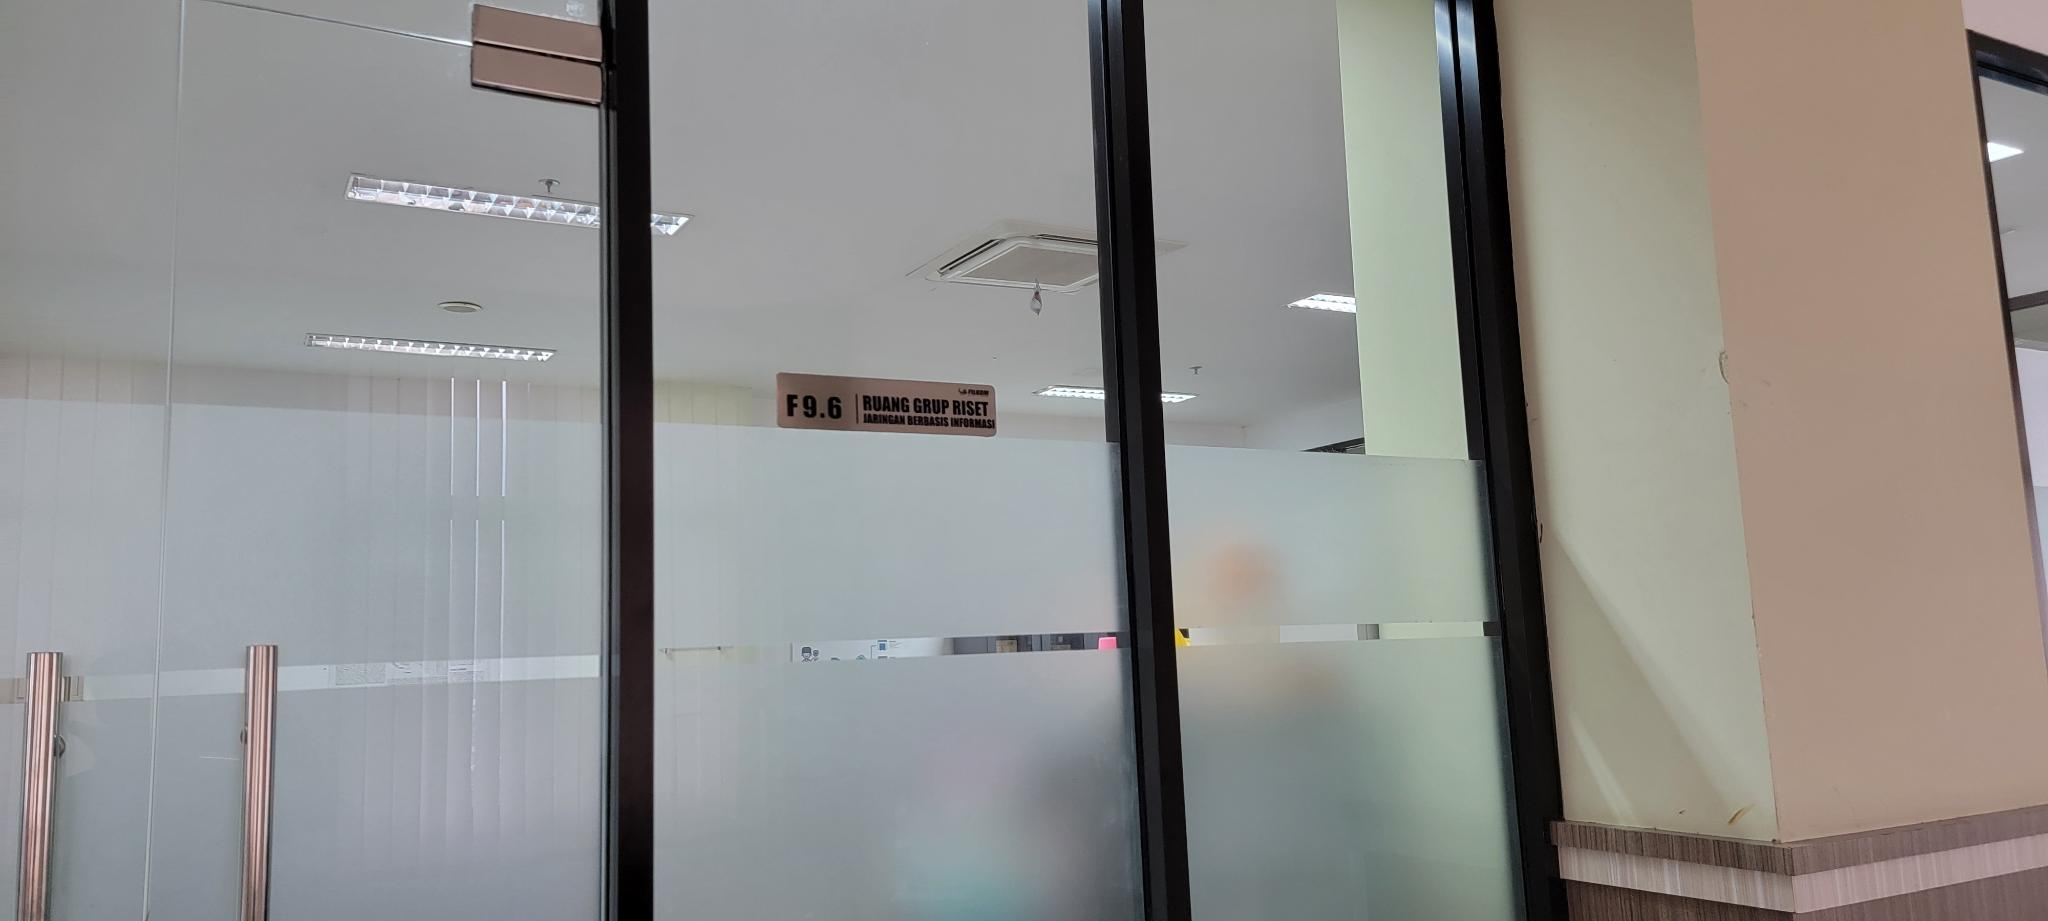plate: (777, 371, 997, 438)
